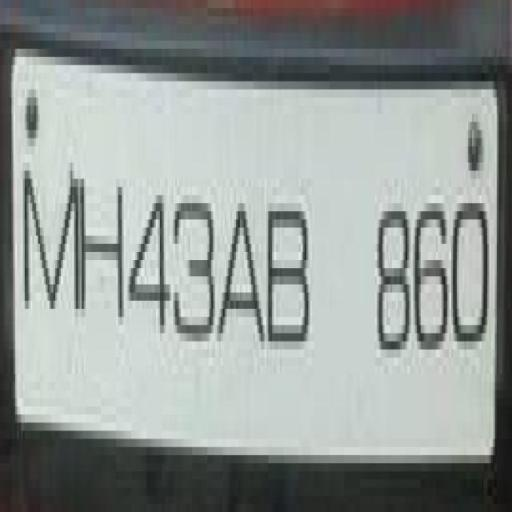number plate: (25, 49, 510, 504)
